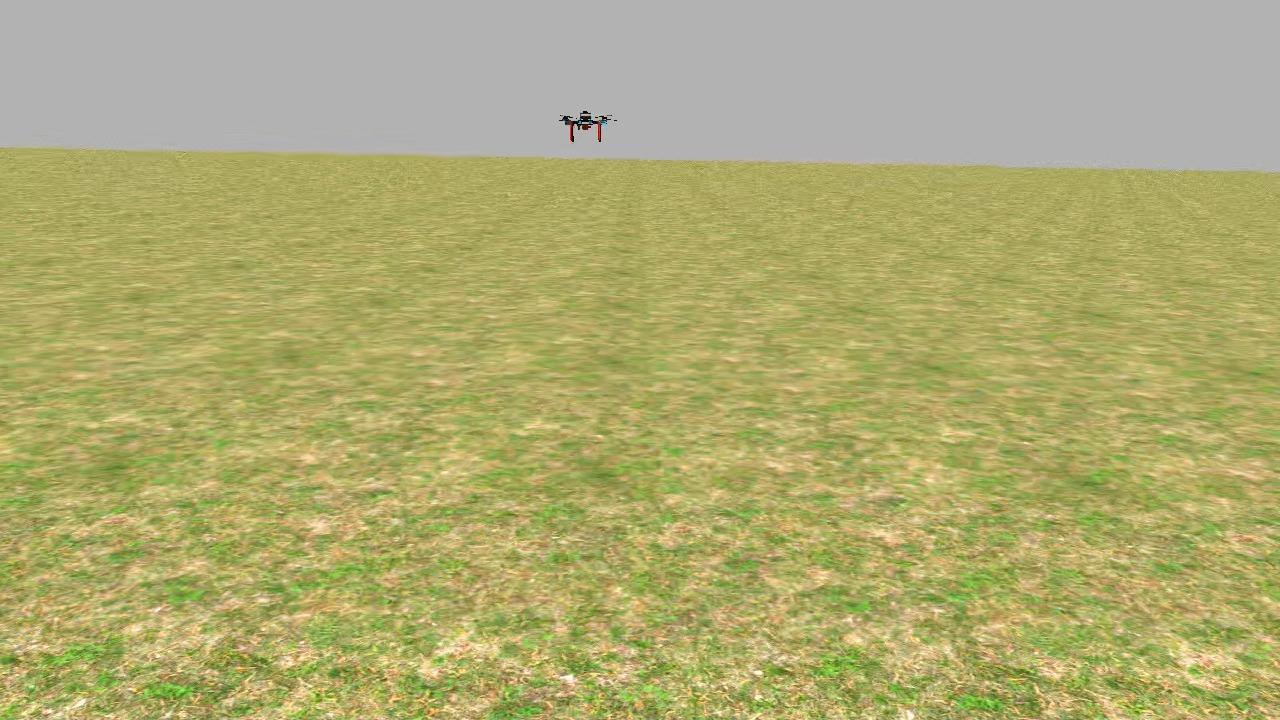UAV: (553, 98, 618, 148)
